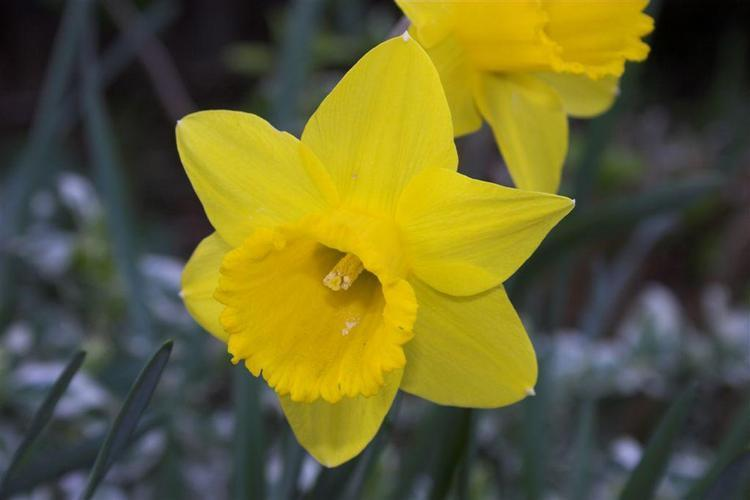flower1: (175, 32, 575, 467)
